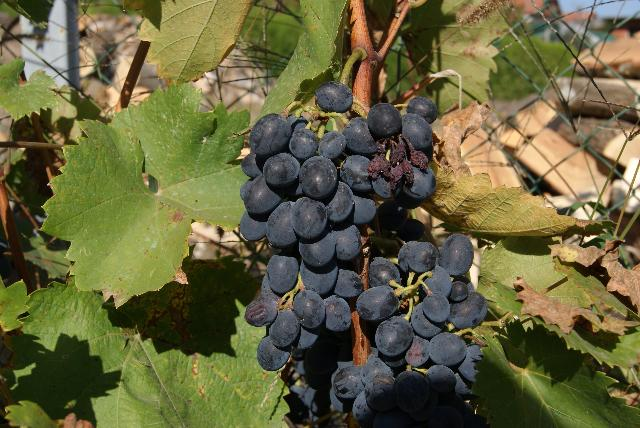grapes: (240, 99, 438, 369), (331, 234, 488, 426)
